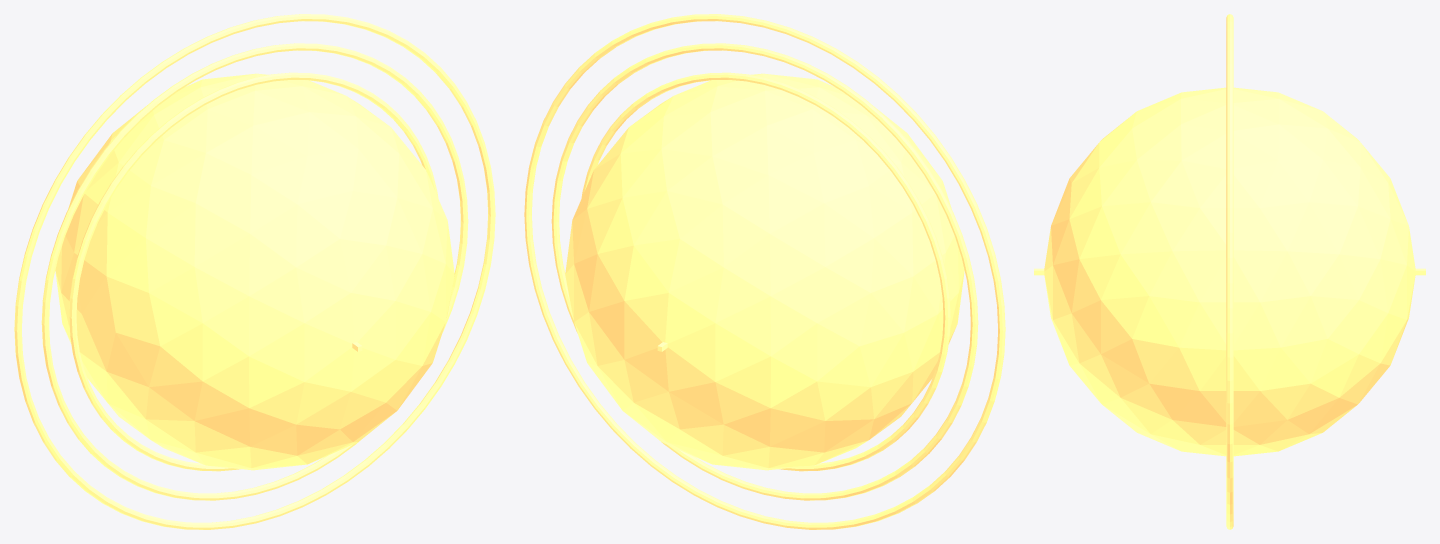
Rendered from hexad-possession.glb.
3 renders of one model, left to right at view 1: azimuth 30°, elevation 25°; view 2: azimuth 150°, elevation 25°; view 3: azimuth 270°, elevation 25°, orthographic. The views are drawn at different scales.
Visible parts, largest first — view 1: Outer_Shell, Magnetic_Ring_3, Magnetic_Ring_2, Magnetic_Ring_1; view 2: Outer_Shell, Magnetic_Ring_3, Magnetic_Ring_2, Magnetic_Ring_1; view 3: Outer_Shell, Magnetic_Ring_3.
Boxes of the visible parts, x1,y1,x2,y2 form: Outer_Shell: (55,73,454,470); Magnetic_Ring_3: (14,14,495,529); Magnetic_Ring_2: (41,43,468,500); Magnetic_Ring_1: (69,72,438,471); Outer_Shell: (565,73,964,470); Magnetic_Ring_3: (524,14,1005,529); Magnetic_Ring_2: (551,43,978,500); Magnetic_Ring_1: (581,72,950,471); Outer_Shell: (1044,87,1415,456); Magnetic_Ring_3: (1226,14,1233,529).
Size of the model in its own units: 3.16 by 3.16 by 2.4.
